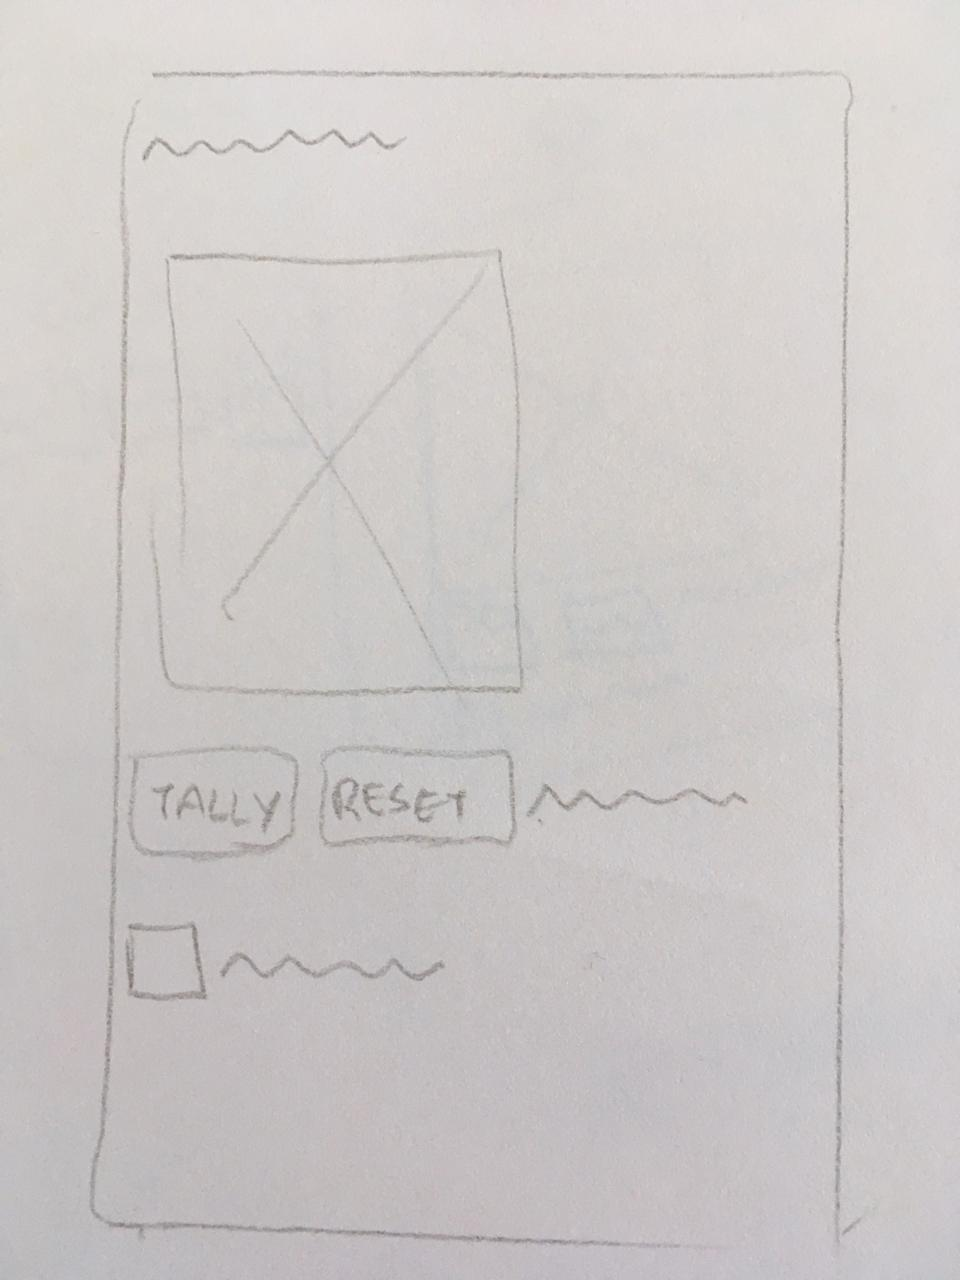Button: (317, 747, 516, 851), (127, 746, 298, 858)
CheckBox: (128, 922, 446, 1001)
Image: (156, 250, 520, 694)
Label: (142, 128, 406, 163), (528, 786, 749, 818)
Screen: (89, 71, 851, 1256)
